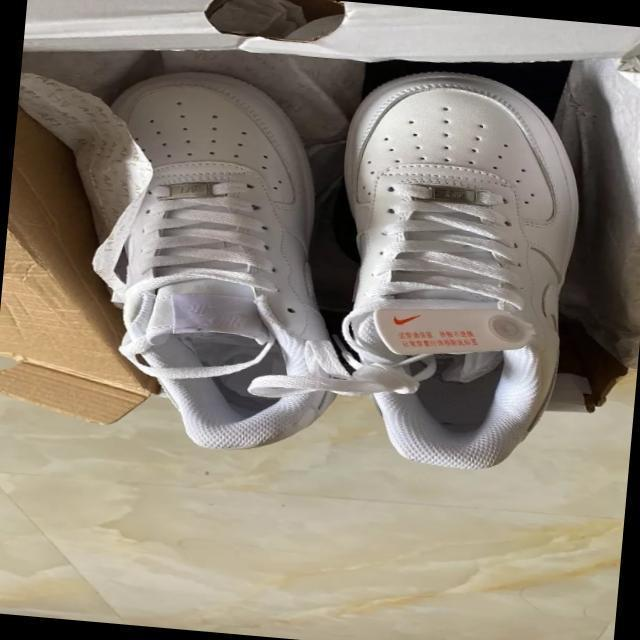nike fake air force: (68, 60, 366, 462), (314, 64, 589, 482)
